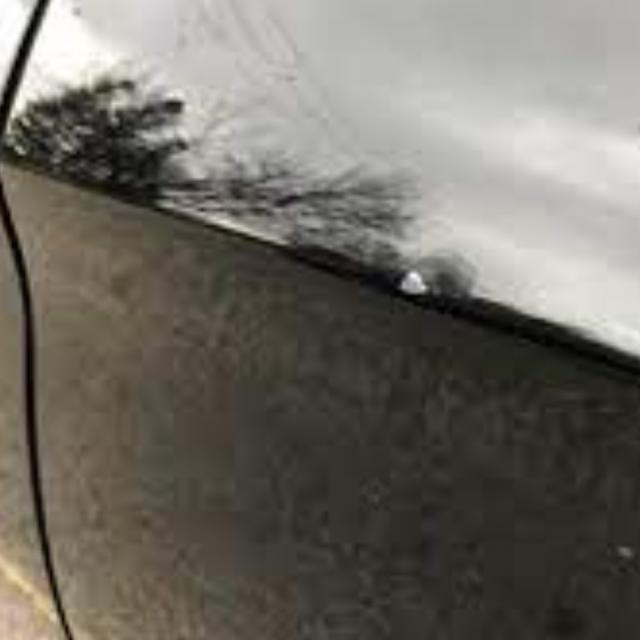dents: (393, 248, 493, 314)
